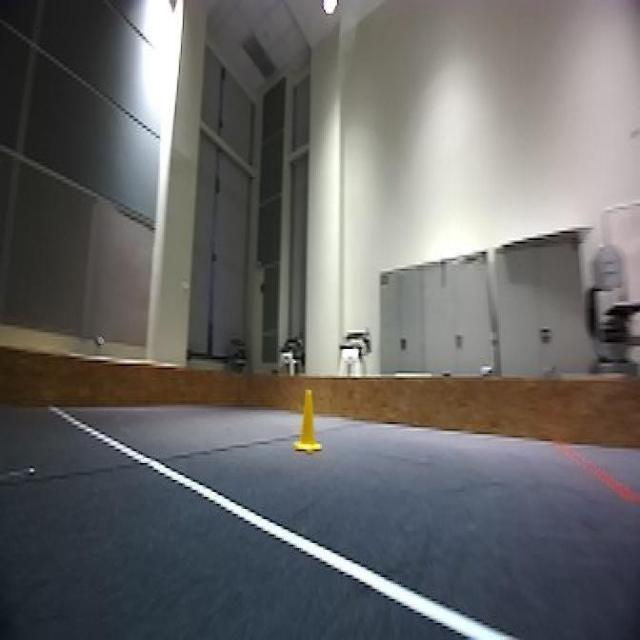frc_cone: (294, 386, 322, 448)
